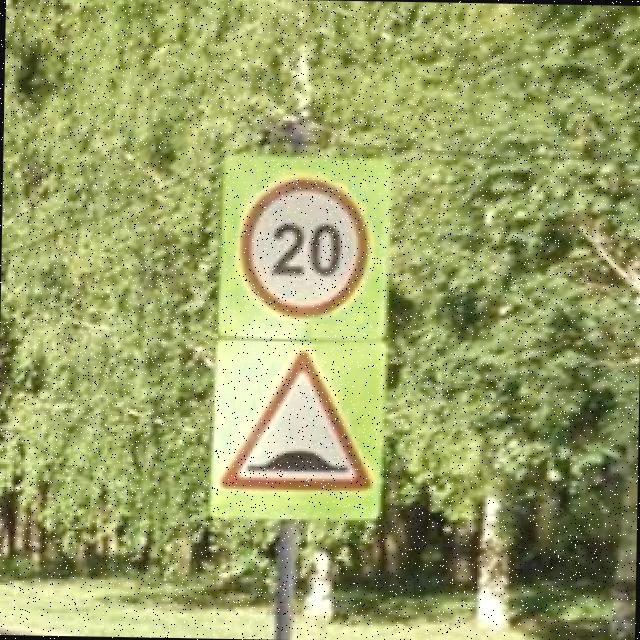Ograniczenie predkosci do 20: (239, 176, 368, 320)
